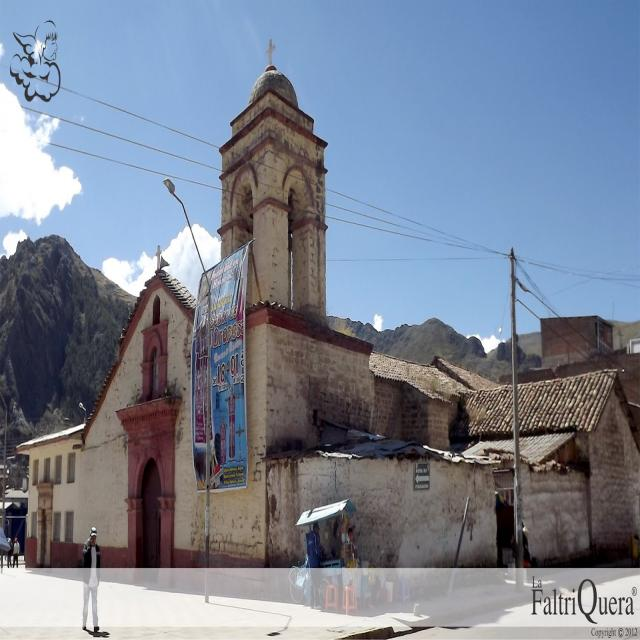6: (202, 47, 334, 567)
CAMPANARIO: (221, 100, 335, 325)
CUPULA: (0, 0, 471, 572)
PORTADA CENTRAL: (239, 56, 314, 114)
SIMETRIA COLONIAL: (117, 391, 189, 574)
